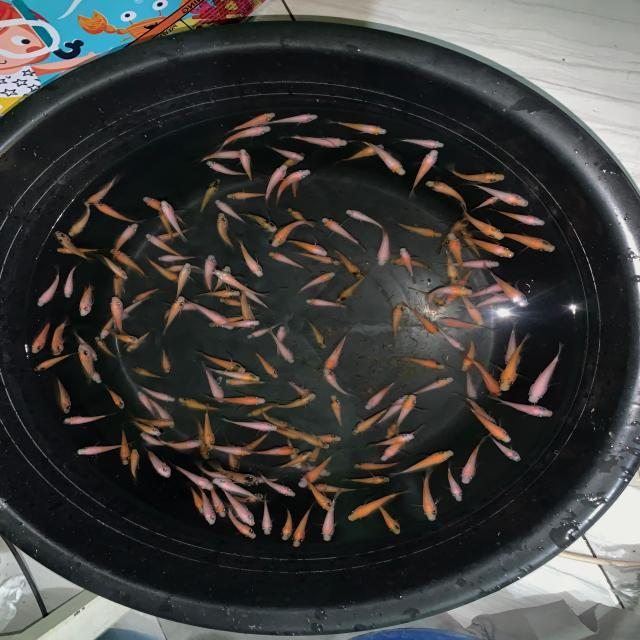nila: (527, 342, 566, 402), (344, 487, 408, 522), (483, 266, 532, 310), (459, 352, 507, 396), (391, 447, 456, 479), (357, 138, 408, 176), (497, 335, 530, 393), (462, 406, 512, 444), (486, 393, 556, 418), (379, 426, 426, 462), (319, 216, 366, 252), (466, 182, 531, 208), (214, 124, 274, 152), (405, 148, 438, 198), (220, 486, 258, 529), (396, 303, 442, 338), (498, 230, 558, 256), (458, 207, 504, 240), (454, 392, 501, 424), (141, 194, 188, 226), (272, 169, 310, 208), (414, 286, 473, 311), (320, 328, 352, 374), (461, 234, 517, 260), (216, 272, 271, 298), (426, 180, 468, 214), (194, 348, 248, 374), (404, 374, 456, 401), (433, 216, 469, 255), (218, 110, 276, 134), (168, 460, 214, 490), (222, 503, 258, 541), (208, 462, 260, 488), (268, 220, 316, 248), (186, 300, 232, 329), (233, 238, 266, 278), (107, 222, 140, 262), (481, 434, 522, 466), (283, 426, 333, 452), (454, 290, 488, 328), (416, 468, 439, 524), (428, 316, 499, 334), (160, 200, 190, 242), (371, 499, 404, 537), (292, 500, 318, 548), (362, 380, 401, 412), (500, 322, 528, 366), (93, 199, 142, 224), (461, 435, 485, 486), (372, 393, 409, 426), (445, 164, 506, 184), (56, 230, 94, 262), (214, 478, 264, 502), (75, 437, 132, 458), (256, 470, 298, 498), (439, 459, 465, 504), (145, 232, 186, 260), (266, 326, 296, 364), (296, 456, 330, 489), (471, 290, 522, 312), (387, 256, 438, 278), (338, 270, 371, 304), (232, 430, 272, 458), (348, 408, 388, 436), (303, 478, 334, 514), (486, 208, 548, 226), (82, 176, 119, 206), (390, 353, 448, 372), (212, 211, 238, 253), (36, 266, 62, 308), (330, 246, 364, 278), (110, 248, 146, 278), (28, 317, 55, 357), (319, 489, 339, 542), (338, 142, 386, 164), (111, 297, 150, 324), (302, 316, 332, 351), (342, 207, 384, 232), (328, 118, 386, 136), (464, 278, 516, 298), (240, 208, 280, 234), (434, 249, 462, 286), (204, 158, 251, 180), (435, 323, 468, 354), (32, 350, 78, 372), (270, 391, 318, 412), (286, 250, 342, 268), (162, 296, 186, 338), (296, 270, 336, 295), (321, 367, 353, 398), (362, 432, 417, 450), (274, 135, 349, 148), (158, 301, 202, 323), (240, 286, 277, 312), (258, 408, 298, 432), (201, 362, 225, 402), (148, 396, 177, 429), (445, 270, 473, 304), (284, 206, 322, 231), (264, 166, 286, 209), (214, 199, 250, 225), (144, 446, 172, 479), (446, 232, 468, 274), (67, 203, 94, 237), (206, 366, 262, 382), (190, 414, 210, 458), (222, 417, 277, 433), (404, 288, 448, 308), (395, 394, 418, 432), (98, 254, 129, 282), (176, 396, 230, 412), (246, 320, 286, 341), (72, 332, 100, 362), (286, 239, 330, 258), (48, 320, 70, 358), (458, 228, 484, 260), (197, 178, 220, 214), (384, 409, 410, 440), (238, 291, 258, 331), (109, 294, 128, 336), (193, 462, 237, 480), (374, 226, 392, 270), (264, 143, 308, 161), (156, 206, 178, 242), (267, 250, 306, 270), (172, 260, 192, 299), (147, 256, 177, 282), (60, 263, 82, 298), (458, 369, 482, 401), (396, 222, 444, 238), (198, 486, 217, 526), (398, 246, 417, 286), (220, 436, 241, 472), (203, 394, 266, 406), (264, 112, 318, 126), (58, 412, 112, 426), (196, 149, 246, 164), (284, 378, 318, 400), (304, 482, 366, 494), (388, 299, 406, 340), (147, 226, 193, 242), (204, 442, 256, 456), (136, 384, 176, 402), (328, 392, 346, 432), (208, 485, 229, 519), (458, 340, 480, 372), (252, 353, 279, 379), (393, 137, 446, 150), (56, 376, 74, 414), (277, 502, 294, 542), (434, 260, 502, 270), (288, 461, 330, 477), (78, 342, 93, 386), (304, 298, 350, 312), (264, 424, 304, 440), (236, 150, 256, 182), (158, 437, 206, 450), (215, 313, 263, 326), (94, 336, 118, 362), (340, 476, 391, 488), (77, 283, 95, 317), (126, 416, 176, 428), (276, 151, 306, 171), (222, 190, 272, 202), (124, 330, 150, 353), (130, 286, 163, 304), (202, 408, 216, 450), (276, 452, 310, 469), (212, 266, 234, 292), (283, 440, 302, 470), (162, 264, 208, 276), (350, 461, 400, 472), (260, 493, 272, 538), (245, 447, 299, 457), (203, 254, 217, 291), (217, 298, 260, 310), (132, 419, 162, 436), (104, 386, 125, 410), (56, 246, 106, 256), (138, 432, 173, 446), (128, 366, 165, 379), (194, 288, 242, 298), (110, 330, 140, 346), (110, 268, 124, 302), (137, 390, 155, 416), (274, 325, 288, 358), (128, 448, 141, 483), (98, 314, 116, 339), (118, 425, 128, 468), (222, 378, 274, 386), (208, 320, 260, 328), (243, 405, 274, 418), (82, 364, 102, 384), (230, 490, 263, 502), (190, 486, 204, 514), (471, 196, 499, 210), (304, 432, 343, 442), (307, 441, 325, 462), (150, 255, 203, 262), (160, 347, 172, 374), (243, 476, 282, 484), (290, 177, 300, 200)
